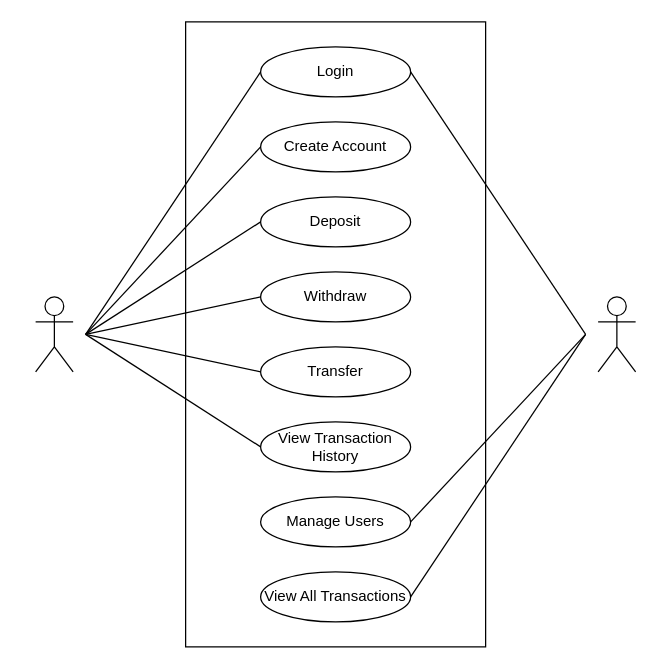
Some shapes in this 659 by 669 pixel diagram are drawn without their labels. The shapes that lost their labels are listed below. From the top down, each one's box as (x1, y1, x2, y2) in pixels, then its label:
(34, 296, 73, 372): Customer
(597, 296, 636, 372): Admin
